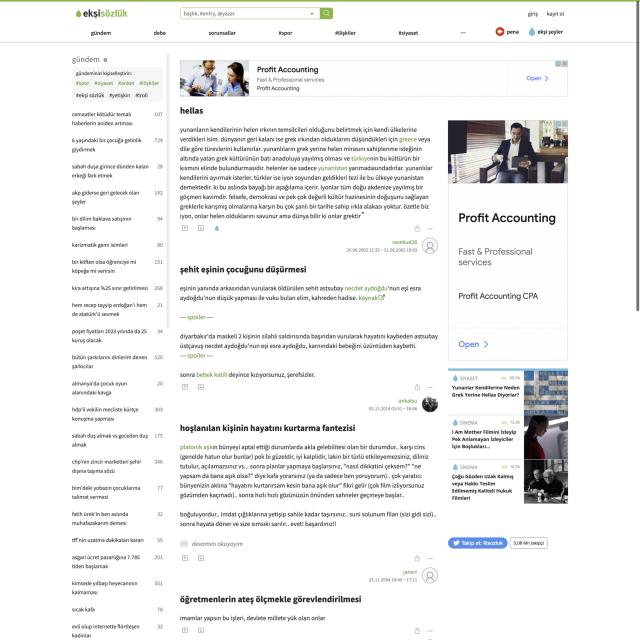input: (179, 6, 335, 21)
logo: (75, 5, 133, 21)
navigation: (89, 27, 566, 38)
